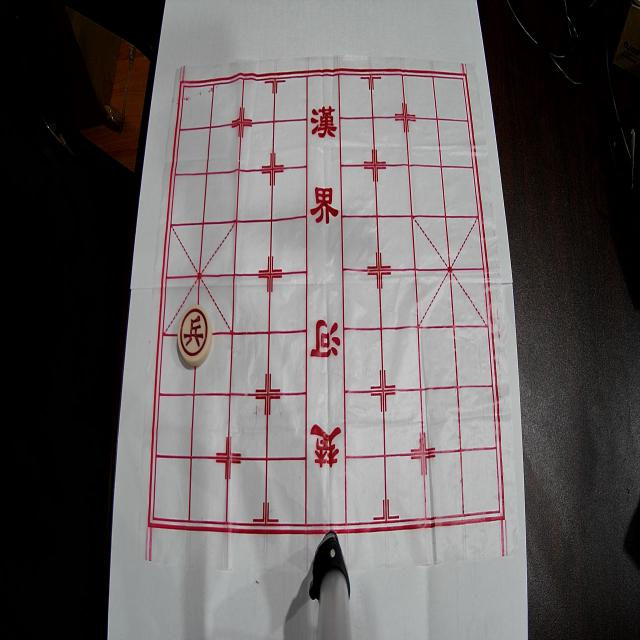red-soldier: (178, 304, 212, 366)
